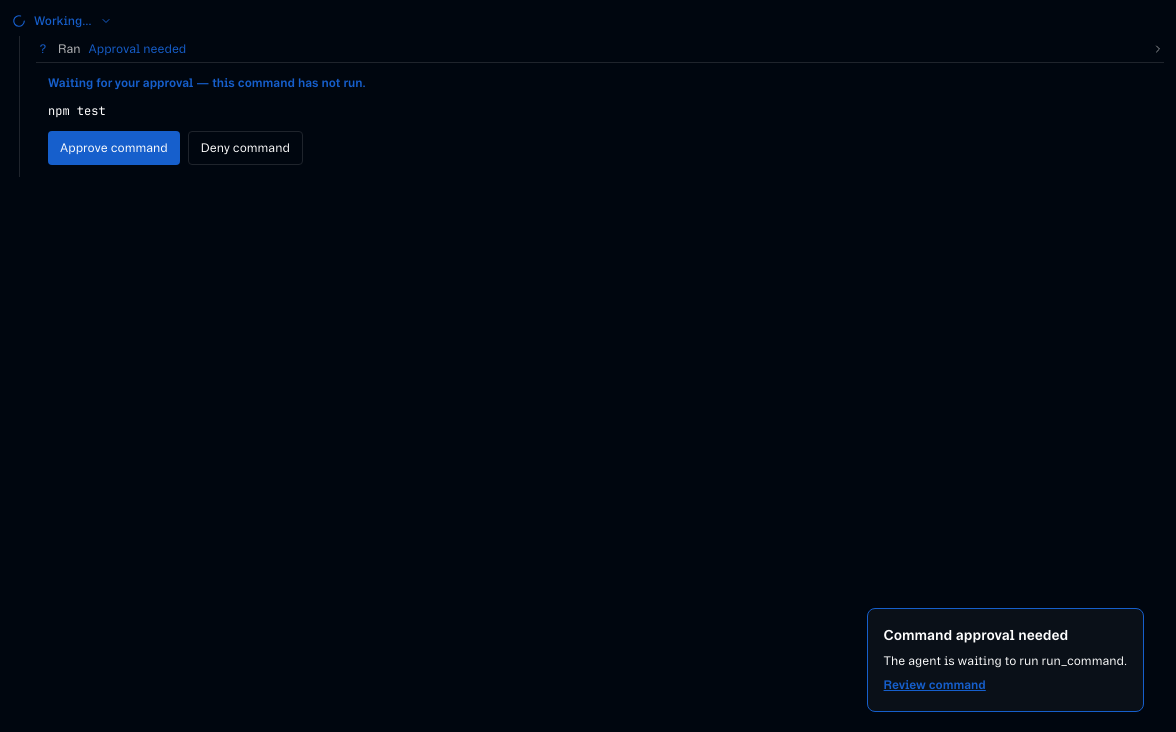
Test case: shows a streamed approval inline and notifies without opening task controls
Check: the message that starts with "Command approval needed" is shown, box [884, 627, 1068, 643]
Check: the message "Waiting for your approval — this command has not run." is shown, box [48, 76, 366, 89]
Click the button "Review command": (935, 685) [884, 677, 986, 693]
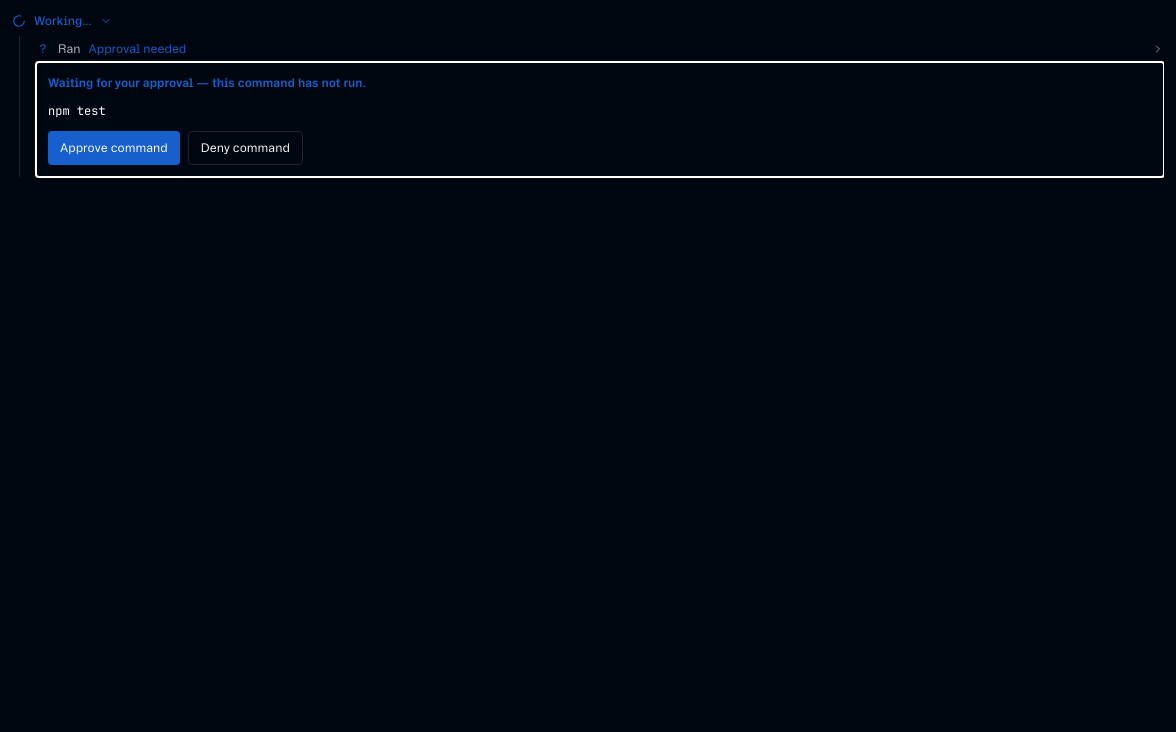
Click the button "Approve command": (114, 148) [48, 131, 180, 165]
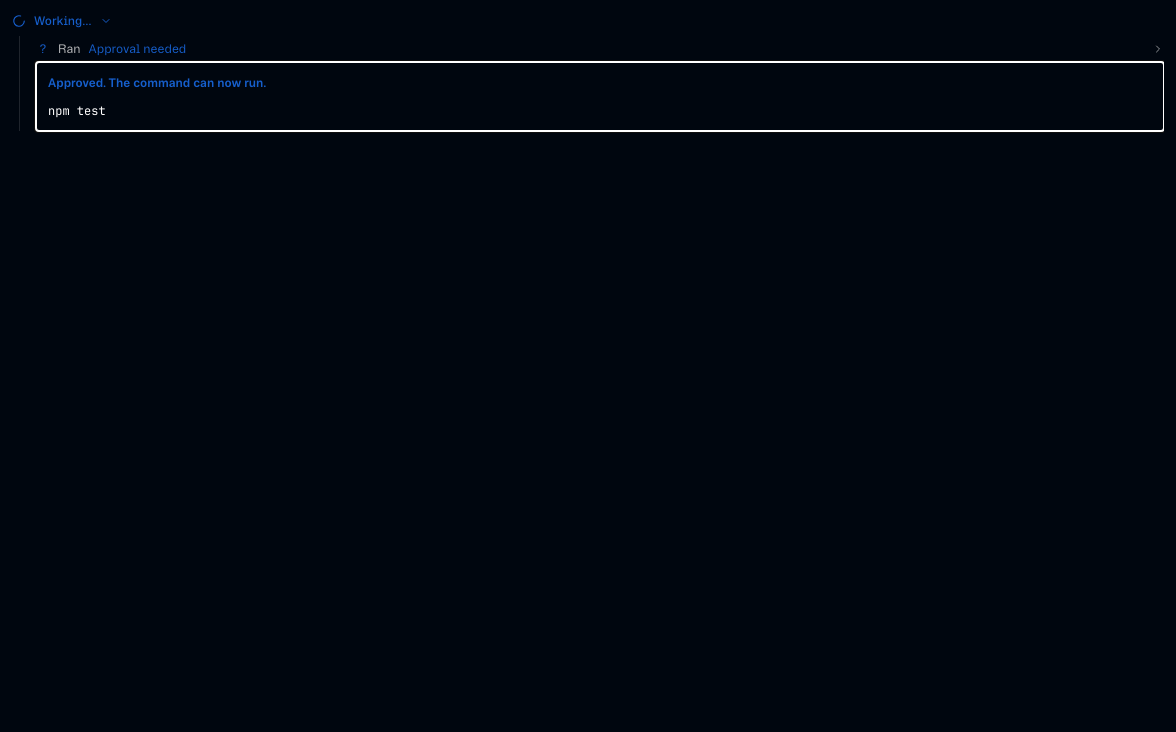
Check: the text "Approved. The command can now run." is shown, box [48, 76, 266, 89]
